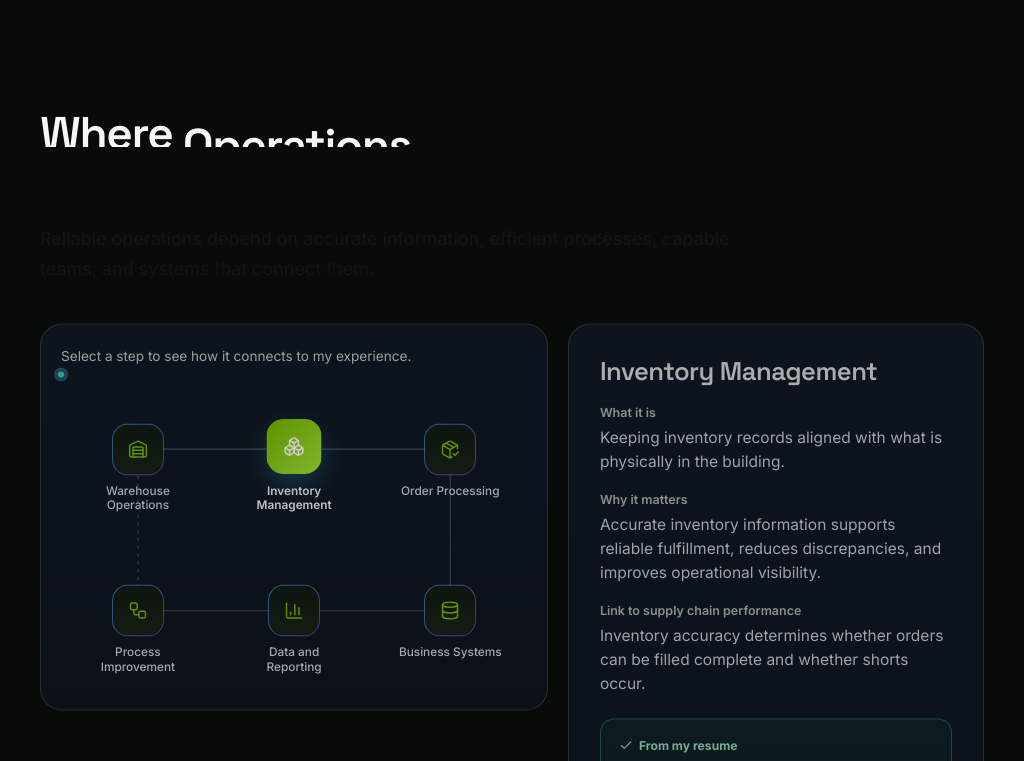
Operations meets technology › reveals actual experience and a clearly labelled illustrative idea for the selected step
This screenshot has width=1024, height=761.
Click the button "Business Systems".
click(450, 622)  # box [398,585,502,659]
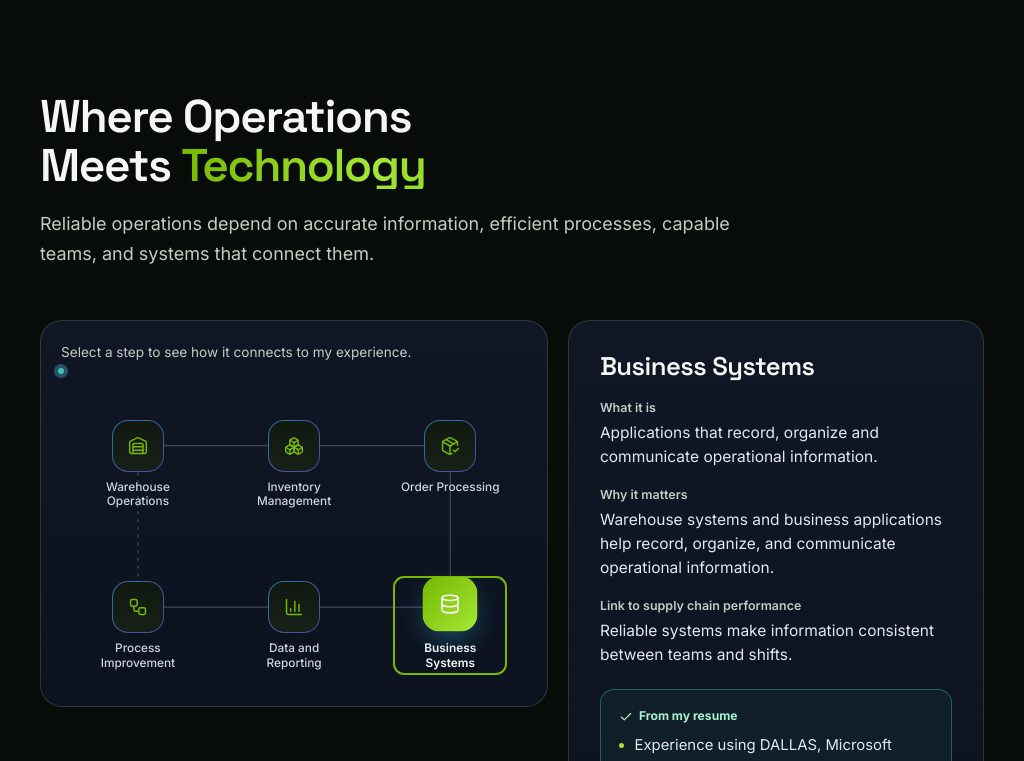
Expected: the text "From my resume" is shown, [618,708,738,724]
Result: the button "Business Systems" is pressed at [398,582,502,670]
